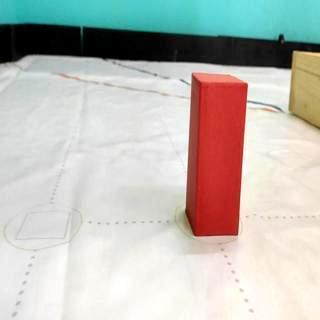redbox: (186, 71, 250, 236)
